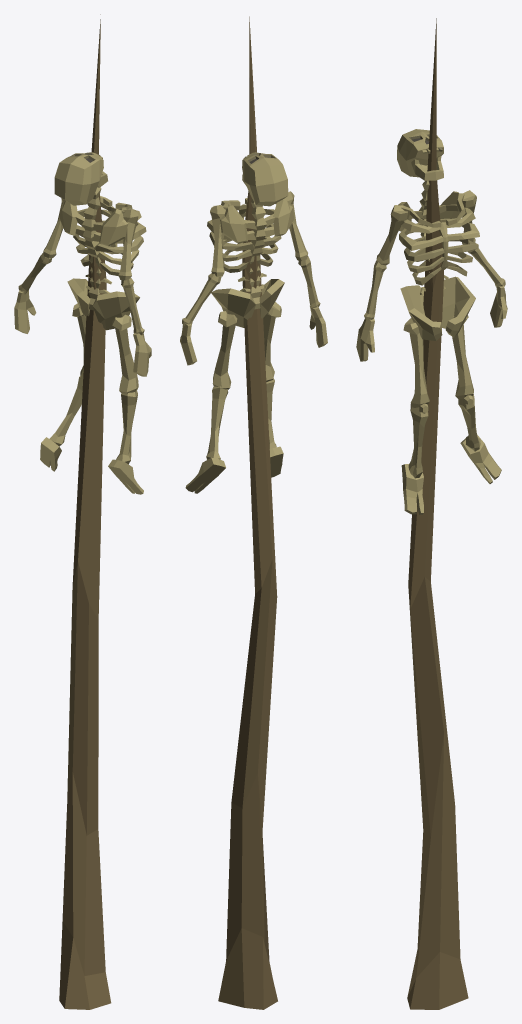
The model's file is Sceleton_7.fbx.
The picture shows the model from 3 angles, left to right: view 1: azimuth 90°, elevation 25°; view 2: azimuth 150°, elevation 25°; view 3: azimuth 330°, elevation 25°; orthographic projection. The views are drawn at different scales.
Visible parts, largest first — view 1: Sceleton_7; view 2: Sceleton_7; view 3: Sceleton_7.
Part boxes in pixels (x1=…): Sceleton_7: x1=14, y1=14, x2=151, y2=1009; Sceleton_7: x1=180, y1=16, x2=327, y2=1009; Sceleton_7: x1=356, y1=18, x2=507, y2=1009.
Bounding box in the file's own units: 53.11 × 518 × 65.95.
